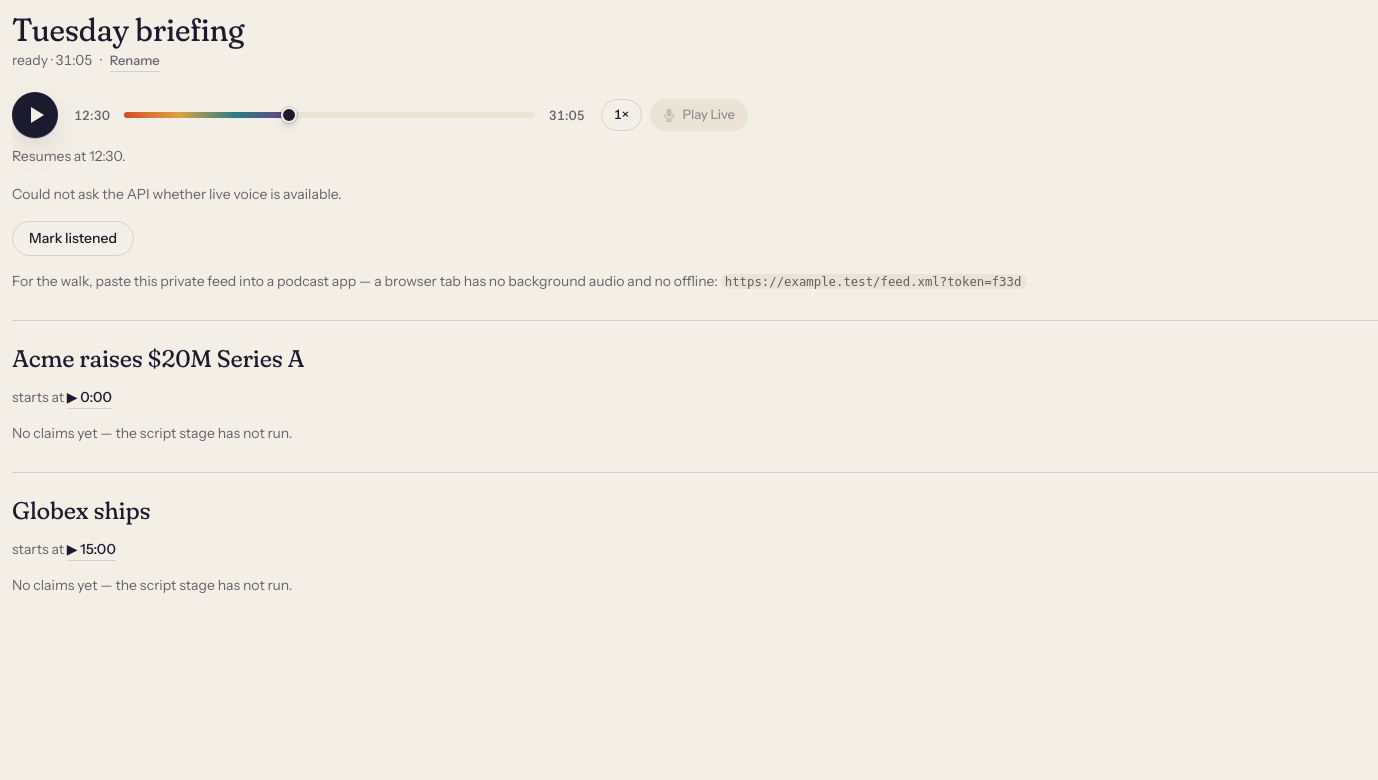
Test: the player transport (motet#110) › steps the playback rate from the speed pill
The image size is (1378, 780).
Step 1. Click the button named "Playback speed 1×" → (622, 115), box [601,99,642,131]
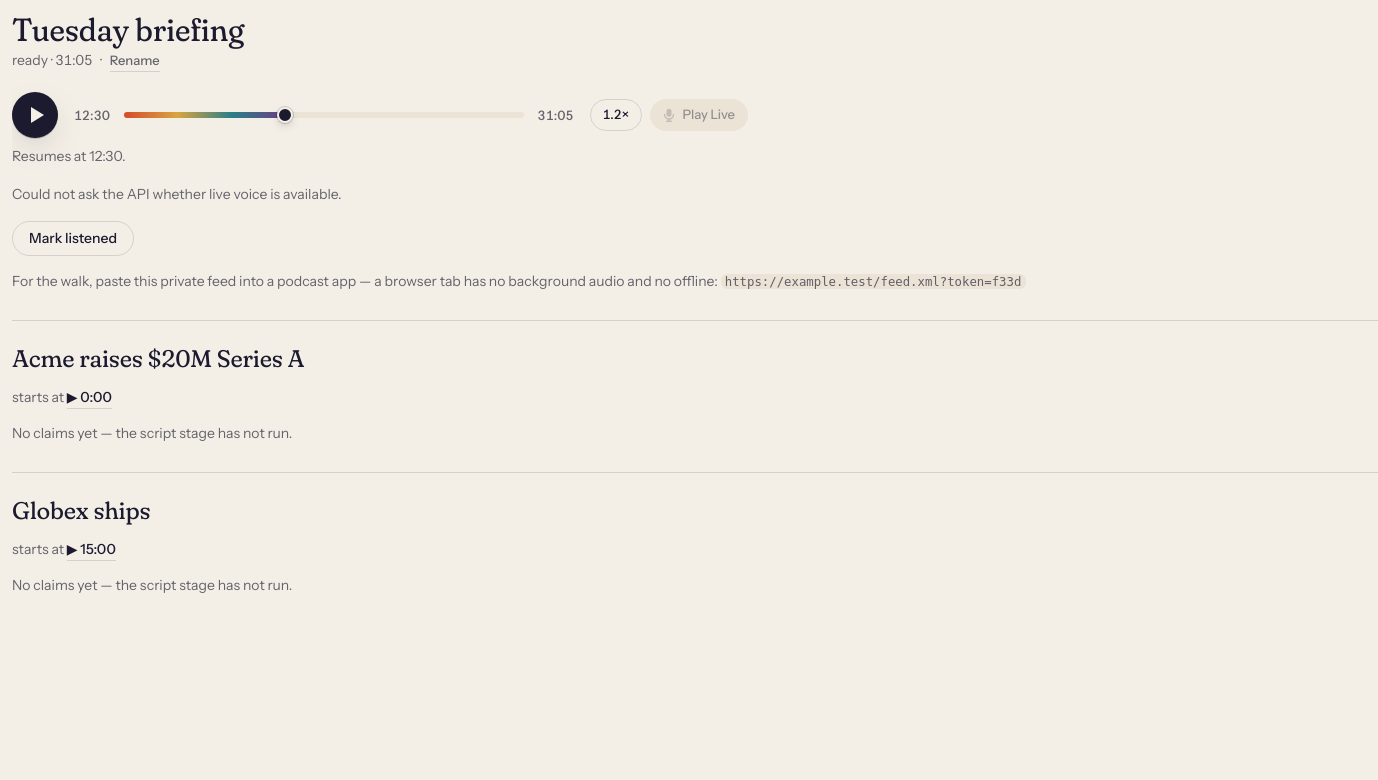
Result: the button named "Playback speed 1.2×" reads "1.2×" at [590,99,642,131]
